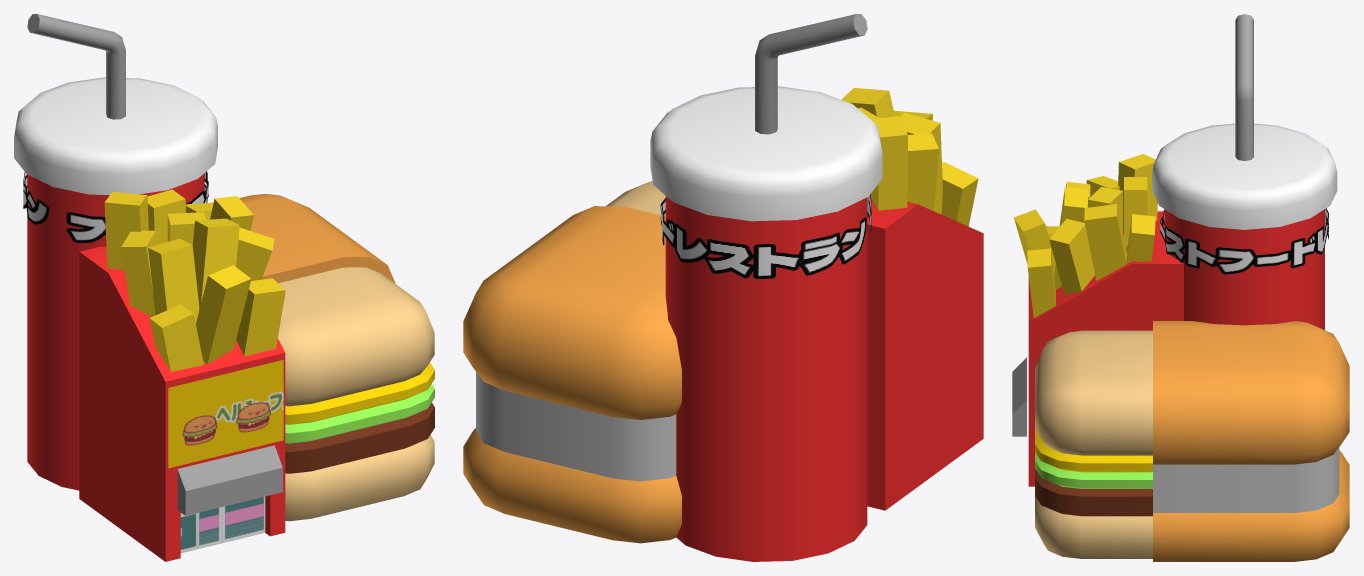
The model's file is Town_Bld_FastFood_A.FBX.
3 views of the same model, side by side, from view 1: azimuth 30°, elevation 25°; view 2: azimuth 150°, elevation 25°; view 3: azimuth 270°, elevation 25° (orthographic). The views are drawn at different scales.
Parts seen in each view (by area): view 1: Town_Bld_FastFood_A; view 2: Town_Bld_FastFood_A; view 3: Town_Bld_FastFood_A.
Part boxes in pixels (x1=…): Town_Bld_FastFood_A: x1=14, y1=14, x2=434, y2=561; Town_Bld_FastFood_A: x1=463, y1=14, x2=983, y2=561; Town_Bld_FastFood_A: x1=1012, y1=14, x2=1349, y2=561.
Bounding box in the file's own units: 997 × 1378 × 1011.
